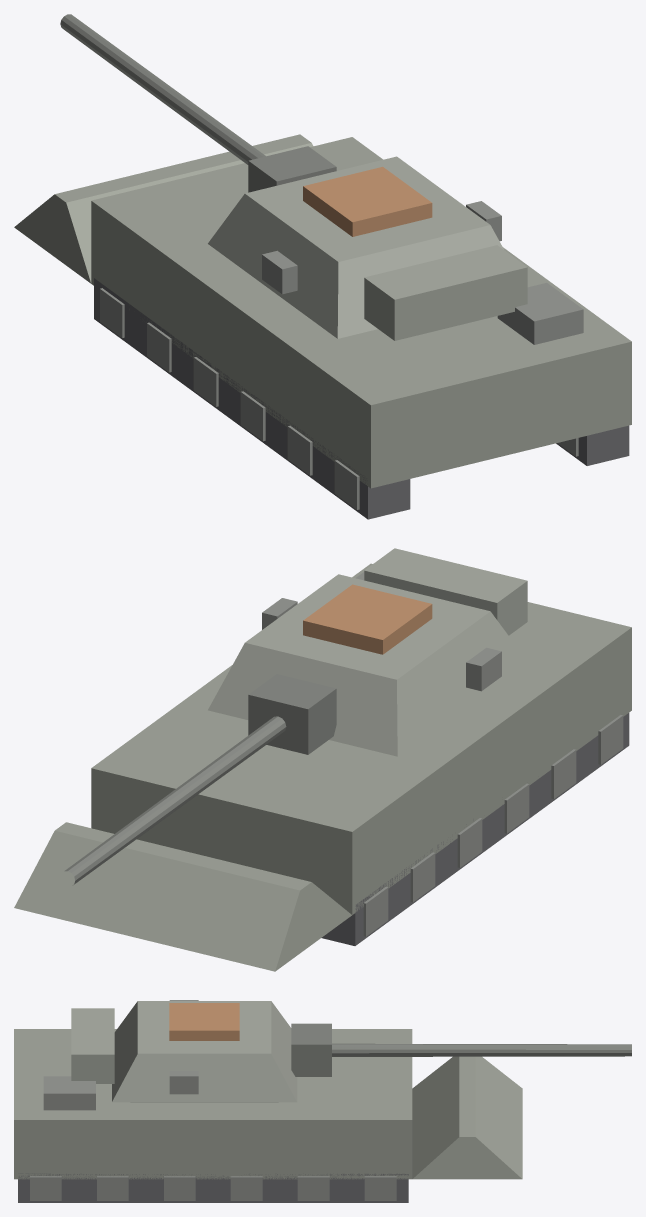
The model's file is mbt_e4_fr_LOD0.glb.
The picture shows the model from 3 angles, top to bottom: view 1: azimuth 30°, elevation 25°; view 2: azimuth 150°, elevation 25°; view 3: azimuth 270°, elevation 25°; orthographic projection. The views are drawn at different scales.
Visible parts, largest first — view 1: mbt_e4_fr_LOD0_body; view 2: mbt_e4_fr_LOD0_body; view 3: mbt_e4_fr_LOD0_body.
Part boxes in pixels (left/top/right/bottom): mbt_e4_fr_LOD0_body: left=14, top=14, right=631, bottom=519; mbt_e4_fr_LOD0_body: left=14, top=548, right=631, bottom=971; mbt_e4_fr_LOD0_body: left=14, top=1000, right=631, bottom=1202.
Bounding box in the file's own units: 3.78 × 2.68 × 10.67.
